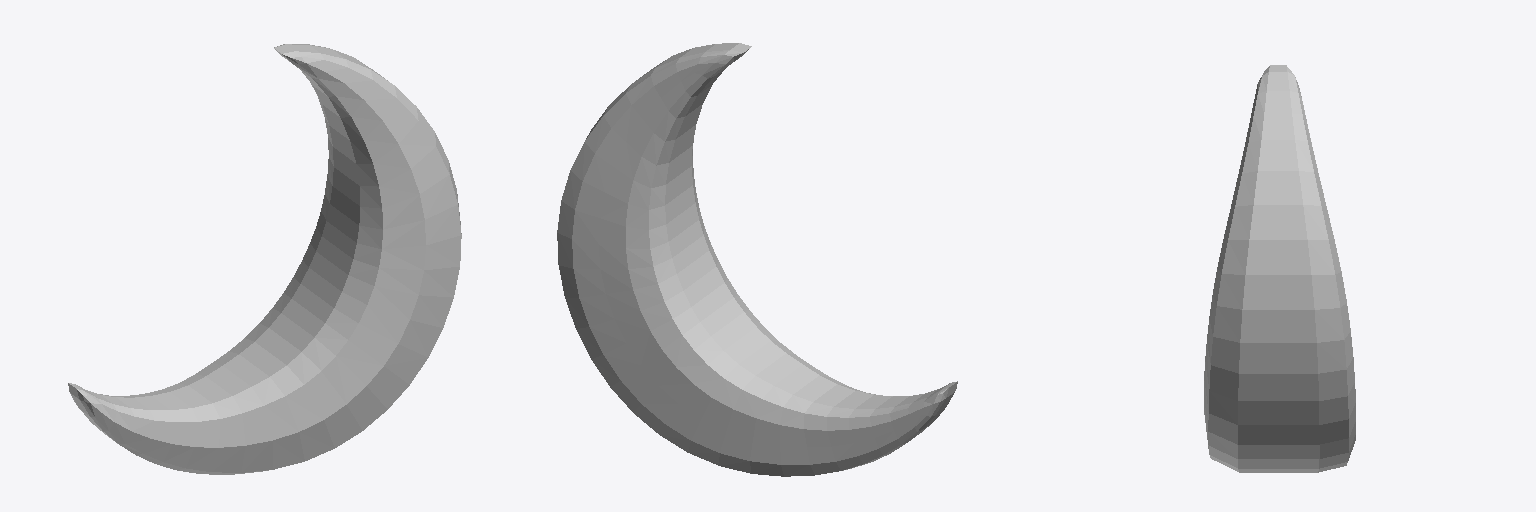
The model's file is moon-02.obj.
The picture shows the model from 3 angles: view 1: azimuth 30°, elevation 25°; view 2: azimuth 150°, elevation 25°; view 3: azimuth 270°, elevation 25°; orthographic projection.
Parts seen in each view (by area): view 1: pasted__pCylinder2 group1; view 2: pasted__pCylinder2 group1; view 3: pasted__pCylinder2 group1.
Boxes of the visible parts, box(x1,y1,x2,y2) form: pasted__pCylinder2 group1: box(68, 44, 461, 474); pasted__pCylinder2 group1: box(557, 43, 957, 476); pasted__pCylinder2 group1: box(1204, 65, 1355, 472).
Bounding box in the file's own units: 0.7897 × 0.8198 × 0.283.